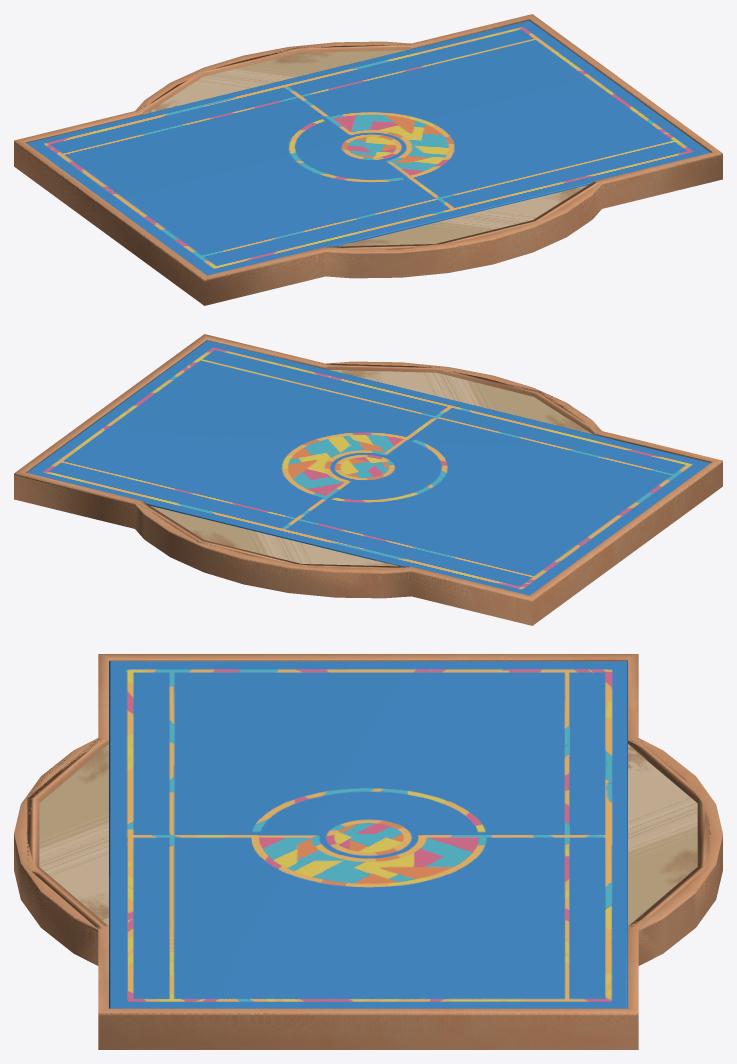
The model's file is objects_un_t01court01.gltf.
3 views of the same model, one above another, from view 1: azimuth 30°, elevation 25°; view 2: azimuth 150°, elevation 25°; view 3: azimuth 270°, elevation 25° (orthographic). The views are drawn at different scales.
Parts seen in each view (by area): view 1: um_objects_un_t01court01_model_lod1Shape:objects_un_t01court (×3), um_objects_un_t01court01_model_lod0Shape:objects_un_t01court (×3), um_objects_un_t01court01_model_lod2Shape:objects_un_t01court (×2); view 2: um_objects_un_t01court01_model_lod1Shape:objects_un_t01court (×3), um_objects_un_t01court01_model_lod0Shape:objects_un_t01court (×3), um_objects_un_t01court01_model_lod2Shape:objects_un_t01court (×2); view 3: um_objects_un_t01court01_model_lod1Shape:objects_un_t01court (×3), um_objects_un_t01court01_model_lod0Shape:objects_un_t01court (×3), um_objects_un_t01court01_model_lod2Shape:objects_un_t01court (×2), objects_un_t01court01_sand03_mesh_shape:objects_un_t01court0, objects_un_t01court01_sand04_mesh_shape:objects_un_t01court0.
Part boxes in pixels (x1,y1,x2,y2): um_objects_un_t01court01_model_lod1Shape:objects_un_t01court (×3): (14, 18, 722, 305); um_objects_un_t01court01_model_lod0Shape:objects_un_t01court (×3): (14, 14, 722, 305); um_objects_un_t01court01_model_lod2Shape:objects_un_t01court (×2): (136, 44, 600, 250); um_objects_un_t01court01_model_lod1Shape:objects_un_t01court (×3): (14, 338, 722, 625); um_objects_un_t01court01_model_lod0Shape:objects_un_t01court (×3): (14, 334, 722, 625); um_objects_un_t01court01_model_lod2Shape:objects_un_t01court (×2): (136, 363, 601, 569); um_objects_un_t01court01_model_lod1Shape:objects_un_t01court (×3): (14, 658, 722, 1049); um_objects_un_t01court01_model_lod0Shape:objects_un_t01court (×3): (14, 654, 722, 1049); um_objects_un_t01court01_model_lod2Shape:objects_un_t01court (×2): (27, 738, 709, 928); objects_un_t01court01_sand03_mesh_shape:objects_un_t01court0: (659, 848, 697, 885); objects_un_t01court01_sand04_mesh_shape:objects_un_t01court0: (76, 748, 108, 783).
Bounding box in the file's own units: 23.98 × 1.15 × 20.02.
Materials: 4 (4 with a texture image).
